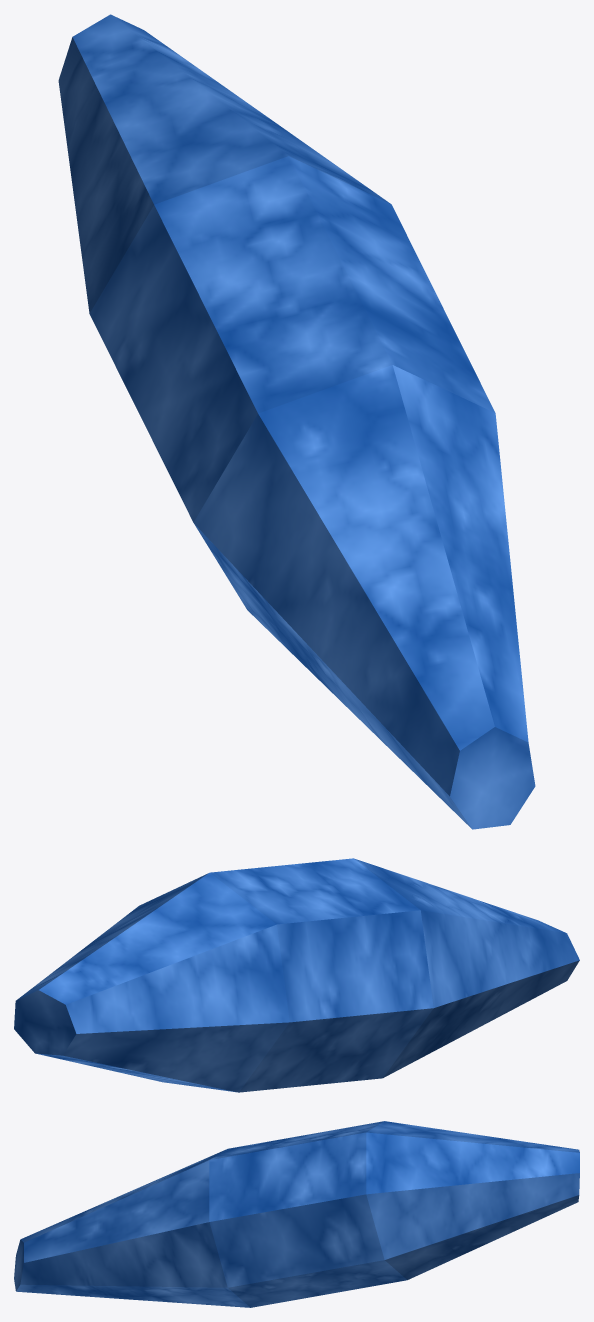
The model's file is crystal.glb.
3 renders of one model, top to bottom at view 1: azimuth 30°, elevation 25°; view 2: azimuth 150°, elevation 25°; view 3: azimuth 270°, elevation 25°, orthographic. The views are drawn at different scales.
Visible parts, largest first — view 1: Crystal; view 2: Crystal; view 3: Crystal.
Boxes of the visible parts, x1,y1,x2,y2 form: Crystal: (58, 14, 535, 829); Crystal: (14, 858, 579, 1092); Crystal: (14, 1121, 579, 1307).
Size of the model in its own units: 0.128 by 0.1429 by 0.3847.
Materials: 1 (1 with a texture image).
